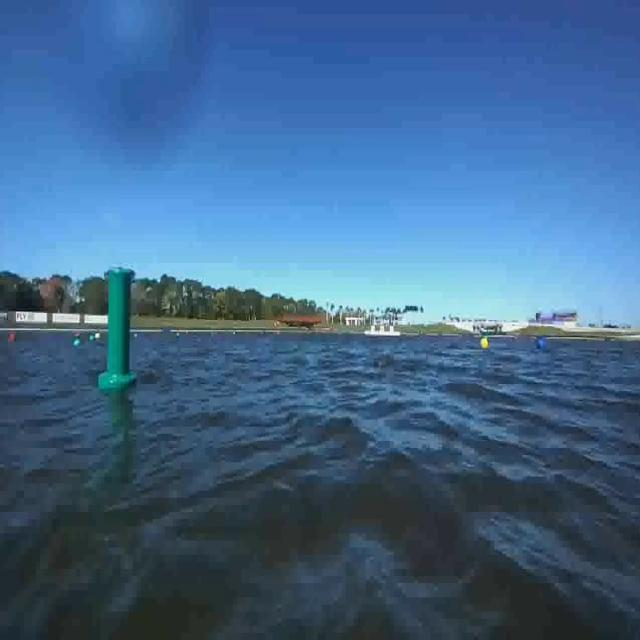blue-buoy: (536, 336, 547, 348)
green-column-buoy: (103, 270, 139, 394)
yellow-buoy: (481, 336, 491, 352)
